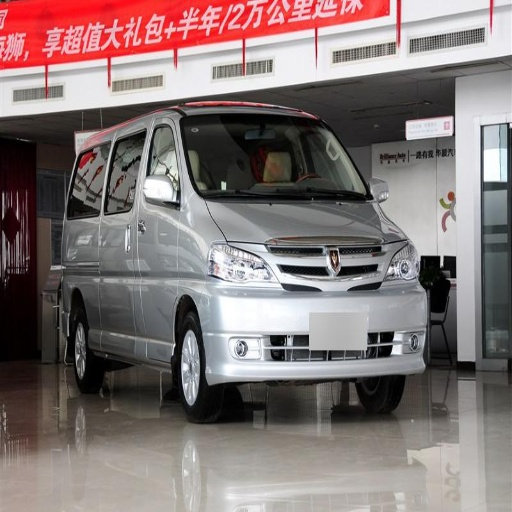front_bumper: (199, 241, 429, 381)
front_glass: (182, 113, 369, 200)
front_left_door: (100, 281, 135, 342)
front_right_door: (136, 119, 181, 279)
front_right_light: (209, 240, 274, 287)
hood: (206, 201, 402, 252)
trunk: (53, 245, 97, 301)
